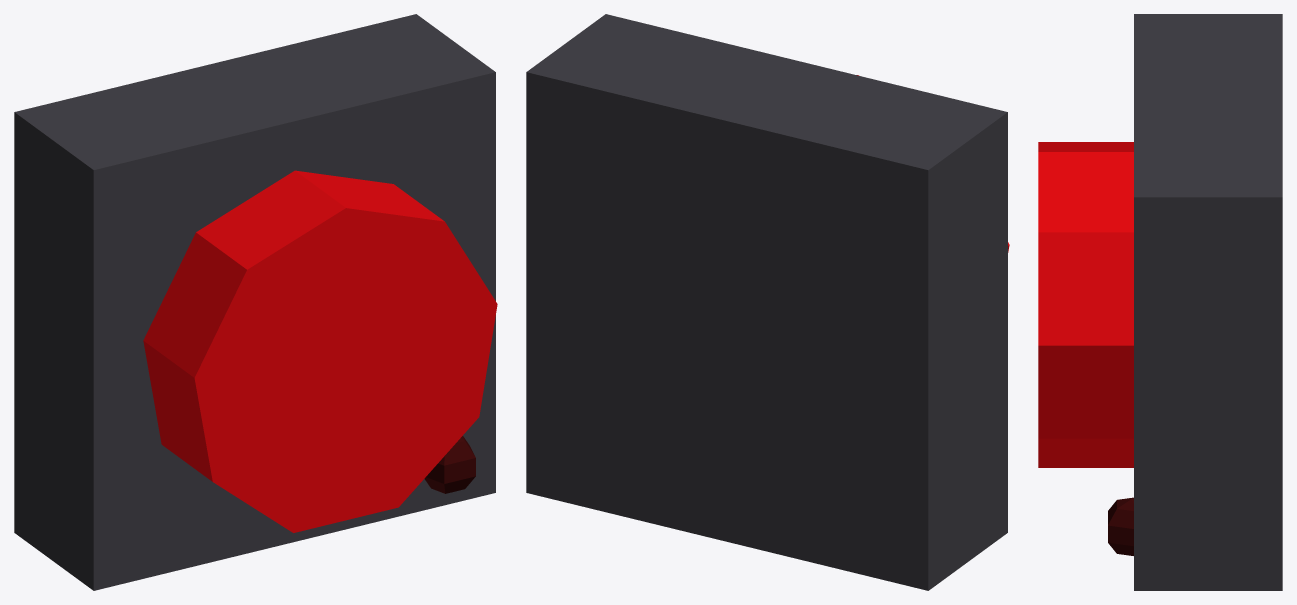
File: Button.fbx
3 renders of one model, left to right at view 1: azimuth 30°, elevation 25°; view 2: azimuth 150°, elevation 25°; view 3: azimuth 270°, elevation 25°, orthographic. The views are drawn at different scales.
Parts seen in each view (by area): view 1: Cube, Cylinder, Sphere; view 2: Cube; view 3: Cube, Cylinder, Sphere.
Boxes of the visible parts, x1,y1,x2,y2 form: Cube: [14, 14, 495, 590]; Cylinder: [143, 170, 497, 532]; Sphere: [424, 436, 475, 493]; Cube: [526, 14, 1007, 590]; Cube: [1134, 14, 1282, 590]; Cylinder: [1038, 142, 1133, 467]; Sphere: [1108, 497, 1133, 555].
Size of the model in its own units: 261 by 261 by 147.
